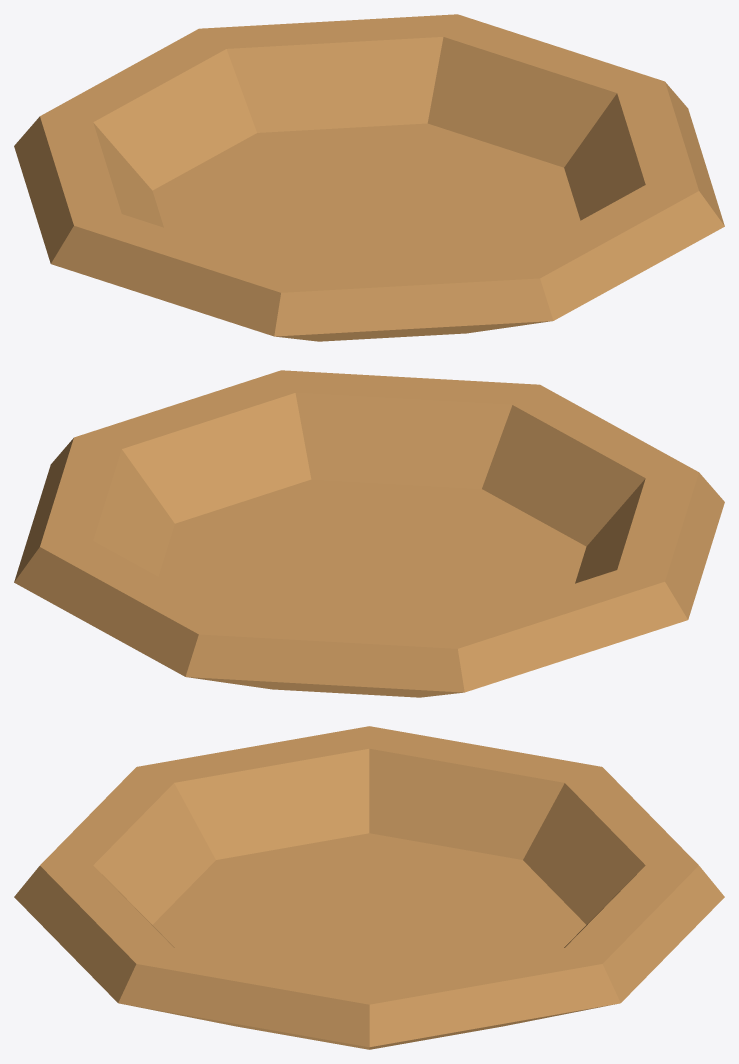
File: plate-round.glb
The picture shows the model from 3 angles, top to bottom: view 1: azimuth 30°, elevation 25°; view 2: azimuth 150°, elevation 25°; view 3: azimuth 270°, elevation 25°; orthographic projection. The views are drawn at different scales.
Parts seen in each view (by area): view 1: plate-round; view 2: plate-round; view 3: plate-round.
Part boxes in pixels (x1,y1,x2,y2): plate-round: (14,14,724,341); plate-round: (14,370,724,697); plate-round: (14,726,724,1049).
Bounding box in the file's own units: 0.5868 × 0.0955 × 0.5868.
Materials: 1 (1 with a texture image).
